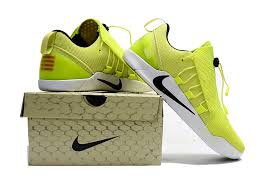nike: (155, 74, 196, 116)
